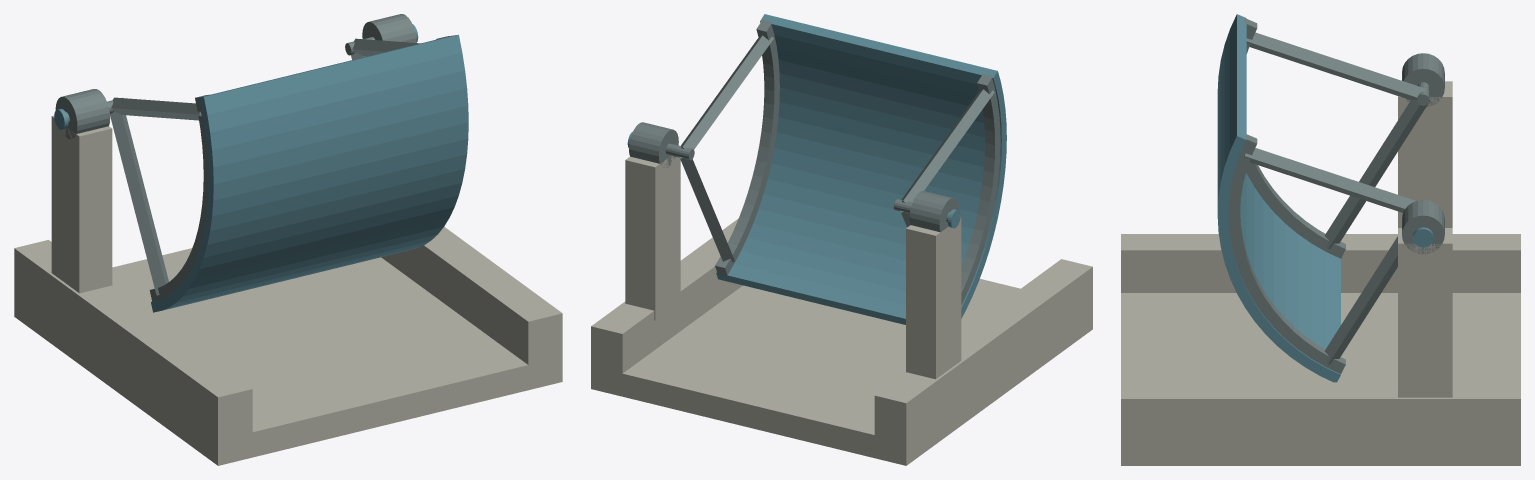
3 views of the same model, side by side, from view 1: azimuth 30°, elevation 25°; view 2: azimuth 150°, elevation 25°; view 3: azimuth 270°, elevation 25° (orthographic). The views are drawn at different scales.
Visible parts, largest first — view 1: WholeContinuousDryChannelBaseAndLowSides, WholeContinuousThickArcLeaf, WholeRearHighBearingPier0, WholeRadialSupportArm(0, 0), WholeBoredPivotBearing0, WholeInnerCurvedSideRib0, WholeRadialSupportArm(0, 1), WholeBoredPivotBearing1, WholeRadialSupportArm(1, 1); view 2: WholeContinuousDryChannelBaseAndLowSides, WholeContinuousThickArcLeaf, WholeRearHighBearingPier1, WholeRearHighBearingPier0, WholeInnerCurvedSideRib1, WholeInnerCurvedSideRib0, WholeRadialSupportArm(1, 1), WholeRadialSupportArm(0, 1), WholeBoredPivotBearing1, WholeBoredPivotBearing0, WholeRadialSupportArm(1, 0); view 3: WholeContinuousDryChannelBaseAndLowSides, WholeContinuousThickArcLeaf, WholeRearHighBearingPier1, WholeRearHighBearingPier0, WholeInnerCurvedSideRib1, WholeRadialSupportArm(0, 1), WholeRadialSupportArm(1, 1), WholeRadialSupportArm(0, 0), WholeRadialSupportArm(1, 0), WholeInnerCurvedSideRib0, WholeBoredPivotBearing1, WholeBoredPivotBearing0.
Part boxes in pixels (<box>): WholeContinuousDryChannelBaseAndLowSides: <box>14,226,562,465</box>; WholeContinuousThickArcLeaf: <box>151,34,468,312</box>; WholeRearHighBearingPier0: <box>51,115,112,293</box>; WholeRadialSupportArm(0, 0): <box>110,111,168,295</box>; WholeBoredPivotBearing0: <box>55,89,110,139</box>; WholeInnerCurvedSideRib0: <box>149,94,210,301</box>; WholeRadialSupportArm(0, 1): <box>111,97,201,120</box>; WholeBoredPivotBearing1: <box>362,14,416,42</box>; WholeRadialSupportArm(1, 1): <box>352,38,419,56</box>; WholeContinuousDryChannelBaseAndLowSides: <box>591,218,1092,465</box>; WholeContinuousThickArcLeaf: <box>716,14,1006,324</box>; WholeRearHighBearingPier1: <box>625,156,680,320</box>; WholeRearHighBearingPier0: <box>906,217,961,379</box>; WholeInnerCurvedSideRib1: <box>715,19,779,276</box>; WholeInnerCurvedSideRib0: <box>961,73,1000,304</box>; WholeRadialSupportArm(1, 1): <box>681,35,773,149</box>; WholeRadialSupportArm(0, 1): <box>901,89,994,202</box>; WholeBoredPivotBearing1: <box>629,122,678,167</box>; WholeBoredPivotBearing0: <box>909,191,959,232</box>; WholeRadialSupportArm(1, 0): <box>679,157,734,262</box>; WholeContinuousDryChannelBaseAndLowSides: <box>1121,234,1520,465</box>; WholeContinuousThickArcLeaf: <box>1217,14,1340,382</box>; WholeRearHighBearingPier1: <box>1398,228,1452,397</box>; WholeRearHighBearingPier0: <box>1398,81,1452,227</box>; WholeInnerCurvedSideRib1: <box>1228,134,1345,373</box>; WholeRadialSupportArm(0, 1): <box>1246,32,1425,100</box>; WholeRadialSupportArm(1, 1): <box>1244,148,1415,212</box>; WholeRadialSupportArm(0, 0): <box>1324,99,1430,248</box>; WholeRadialSupportArm(1, 0): <box>1324,236,1397,364</box>; WholeInnerCurvedSideRib0: <box>1244,18,1345,258</box>; WholeBoredPivotBearing1: <box>1402,200,1444,254</box>; WholeBoredPivotBearing0: <box>1402,53,1444,107</box>.
Size of the model in its own units: 2.05 by 1.75 by 2.05.
